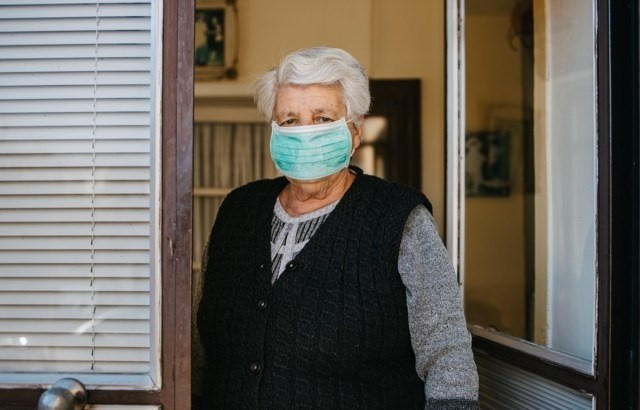face_with_mask: (265, 47, 371, 184)
